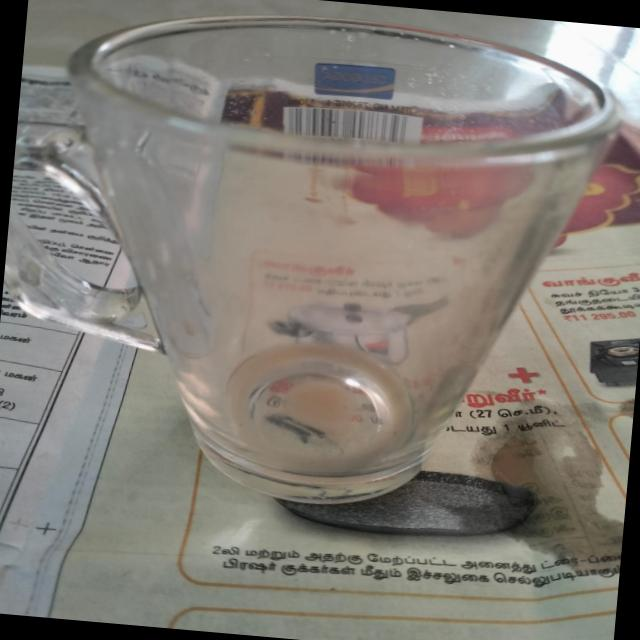glass-VX4N: (0, 0, 618, 529)
